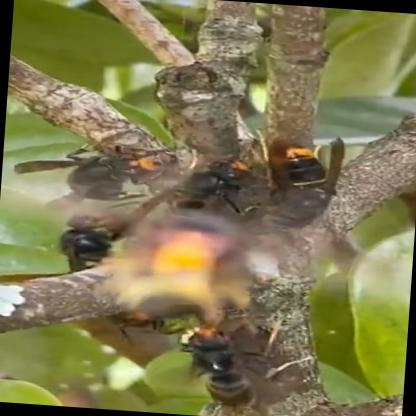bee: (0, 76, 382, 416)
